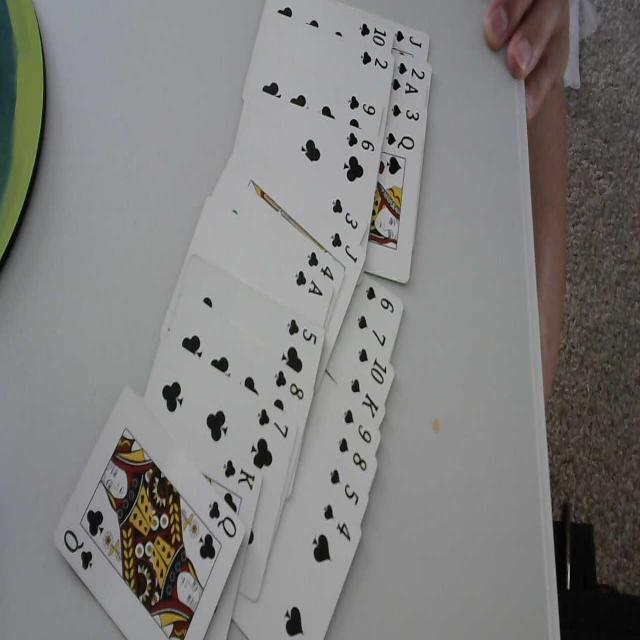10C: (357, 20, 387, 46)
10S: (356, 346, 390, 388)
2C: (358, 45, 388, 74)
2S: (395, 56, 427, 80)
3C: (331, 195, 361, 231)
4C: (308, 246, 336, 283)
4S: (321, 502, 359, 548), (389, 100, 423, 124)
5C: (284, 314, 319, 348)
5S: (327, 466, 363, 508)
6C: (344, 128, 378, 156)
6S: (364, 281, 396, 314)
7C: (257, 404, 291, 442)
7S: (356, 311, 388, 346)
8C: (272, 366, 304, 404)
8S: (336, 436, 370, 471)
9C: (345, 92, 377, 116)
9S: (343, 407, 375, 445)
AC: (291, 268, 325, 300)
AS: (390, 76, 420, 95)
JC: (330, 230, 360, 264)
JS: (392, 26, 426, 49)
KC: (221, 453, 261, 492)
KS: (350, 376, 380, 420)
QC: (62, 524, 95, 576), (206, 494, 236, 538)
QS: (382, 129, 418, 152)
